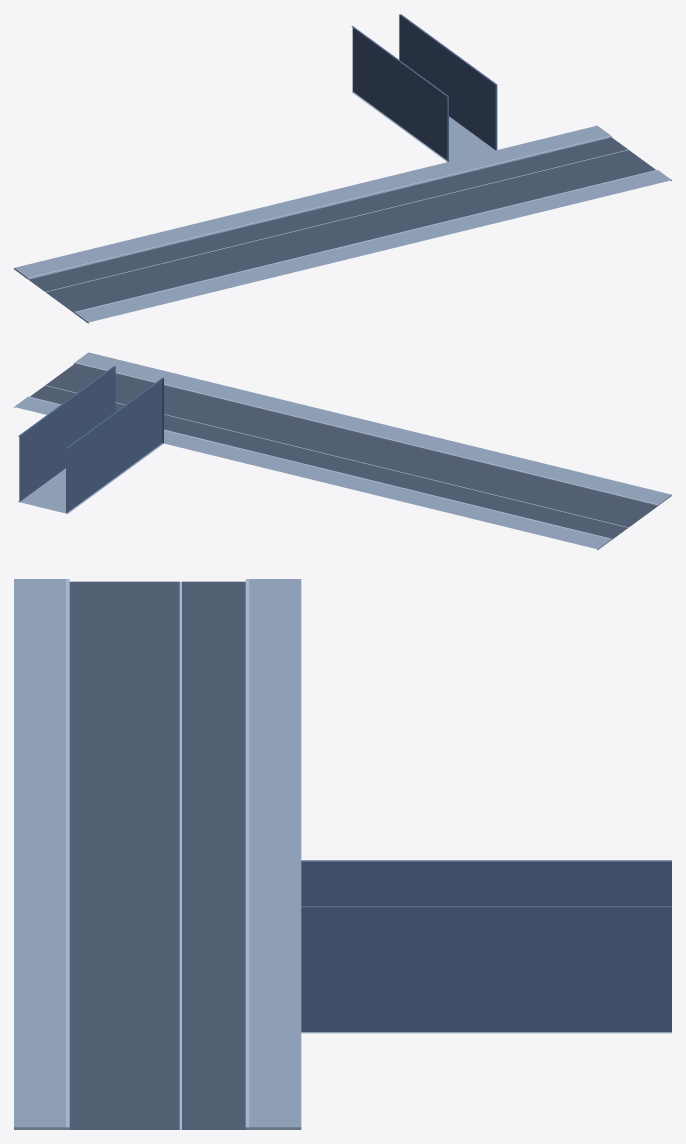
The model's file is ARCH_Sokak.obj.
The picture shows the model from 3 angles, top to bottom: view 1: azimuth 30°, elevation 25°; view 2: azimuth 150°, elevation 25°; view 3: azimuth 270°, elevation 25°; orthographic projection. The views are drawn at different scales.
Visible parts, largest first — view 1: Yol, AraSokak, Kaldirim_Karsi, Kaldirim_Yakin; view 2: Yol, AraSokak, Kaldirim_Yakin, Kaldirim_Karsi; view 3: Yol, AraSokak, Kaldirim_Karsi, Kaldirim_Yakin.
Part boxes in pixels (x1,y1,x2,y2): Yol: (28,137,655,312); AraSokak: (351,14,497,161); Kaldirim_Karsi: (14,125,611,279); Kaldirim_Yakin: (74,169,671,323); Yol: (30,364,656,539); AraSokak: (18,366,163,513); Kaldirim_Yakin: (74,352,671,506); Kaldirim_Karsi: (14,396,611,550); Yol: (69,581,245,1129); AraSokak: (301,860,671,1033); Kaldirim_Karsi: (245,579,301,1129); Kaldirim_Yakin: (14,579,69,1129).
Size of the model in its own units: 70 by 7.65 by 35.5.
